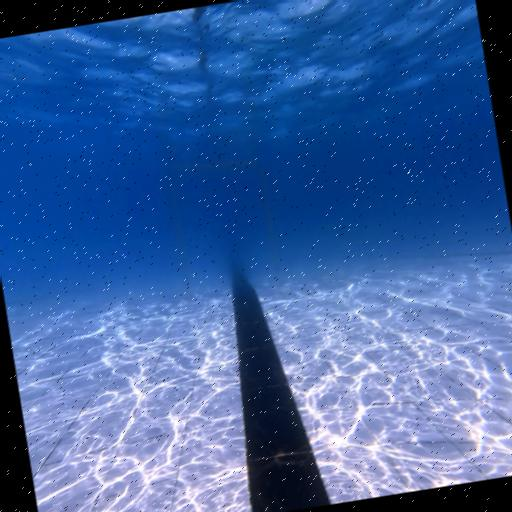gate: (166, 154, 282, 298)
